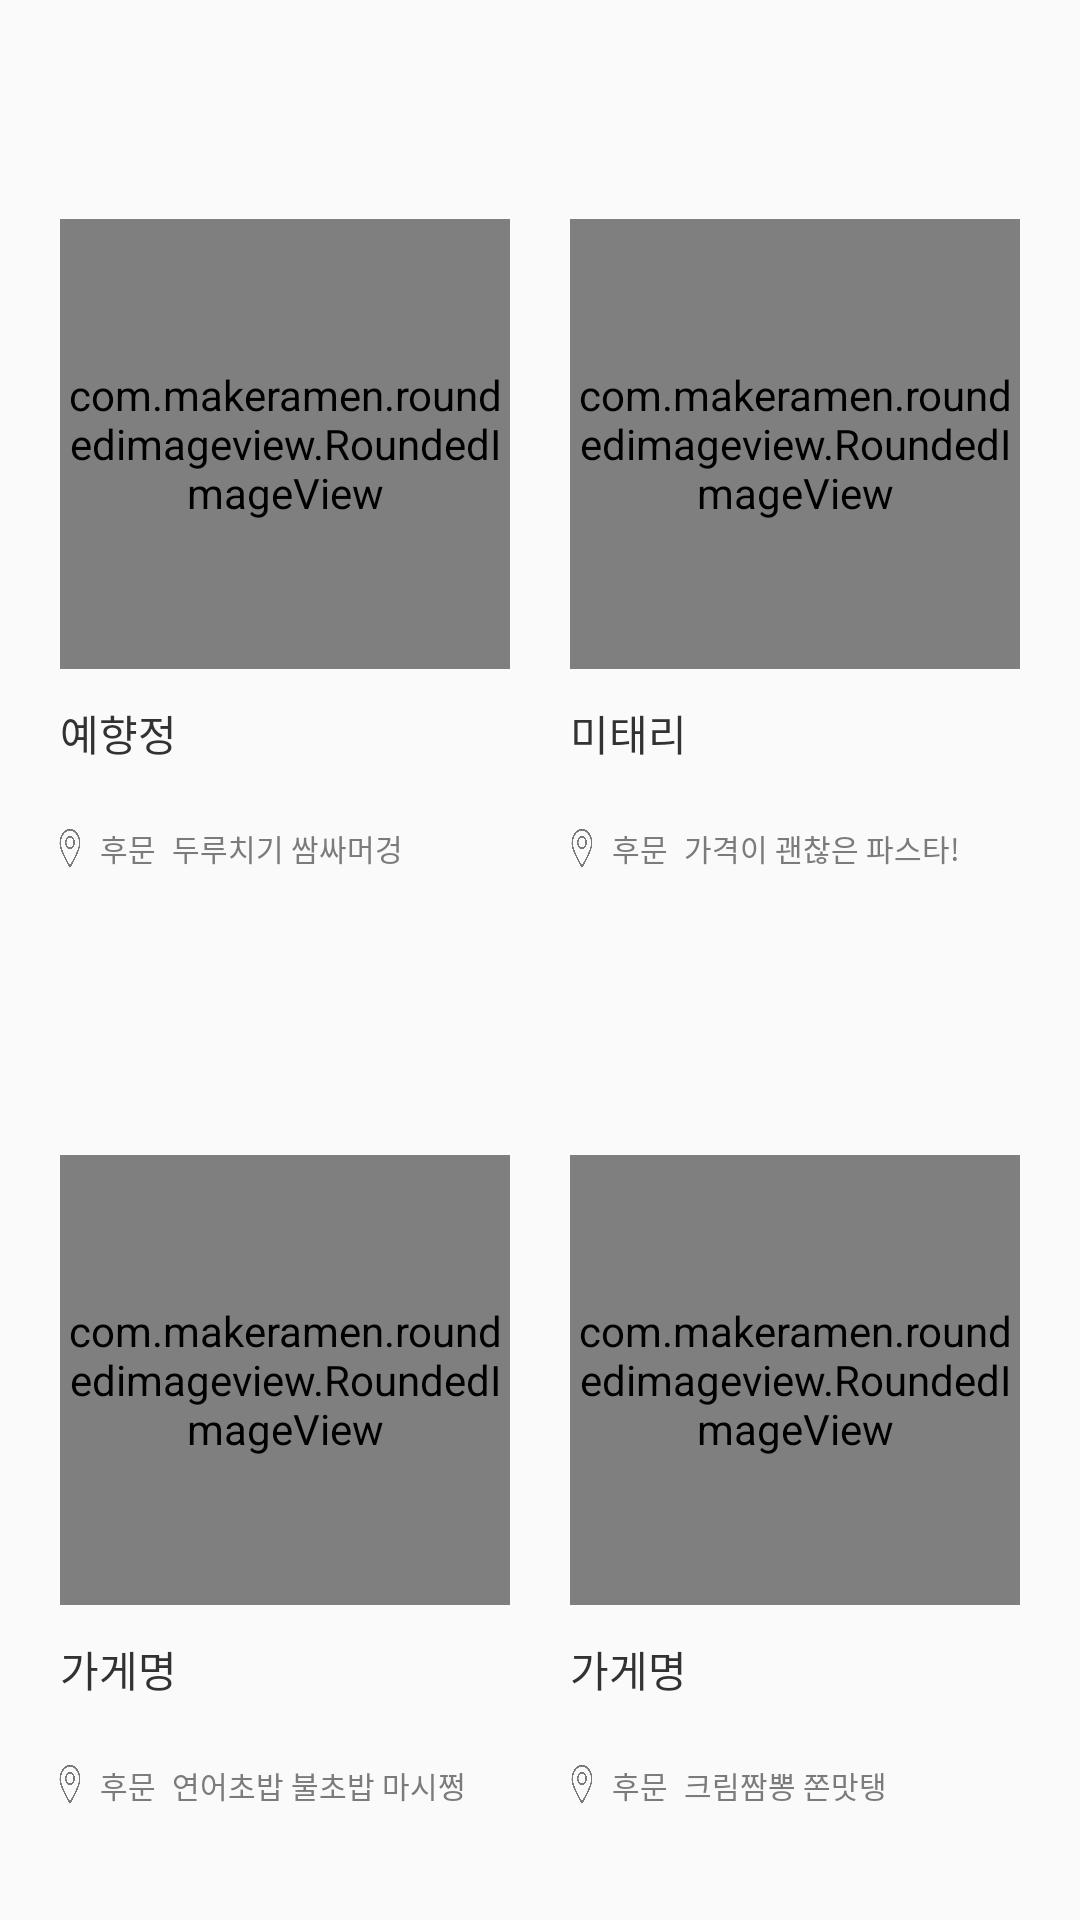

Named icons in this screenshot (1080*1920) and their bounding boxes, (x1, y1, x2, y2):
location: (59, 829, 80, 868), (571, 829, 592, 868), (59, 1765, 80, 1804), (571, 1765, 592, 1804)
